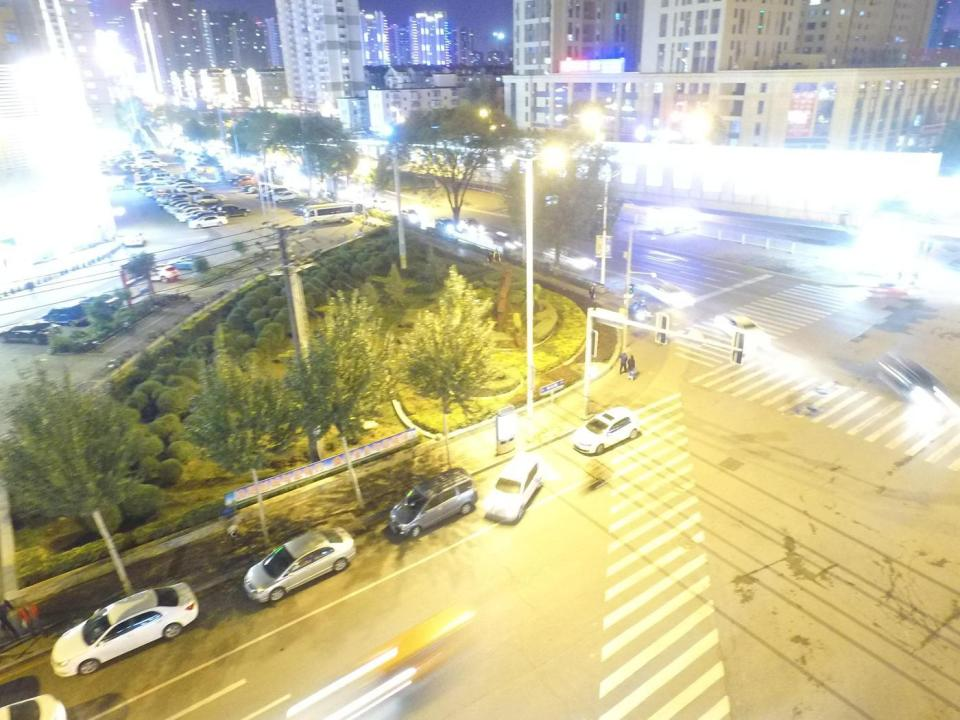bus: (304, 202, 354, 226)
car: (50, 580, 200, 676), (243, 527, 355, 603), (572, 408, 638, 457), (714, 312, 770, 348), (542, 244, 598, 276), (3, 694, 64, 720), (0, 319, 63, 344), (646, 280, 694, 310), (134, 265, 180, 283), (167, 255, 207, 272), (188, 214, 228, 229), (217, 204, 251, 218), (180, 210, 212, 222), (176, 206, 204, 219), (124, 231, 145, 248), (435, 217, 455, 234), (273, 191, 298, 203), (186, 213, 219, 222), (209, 204, 238, 214), (195, 195, 221, 206), (262, 187, 288, 198), (464, 218, 483, 233), (400, 208, 418, 223), (178, 185, 204, 195), (248, 183, 271, 194), (374, 199, 391, 210), (134, 181, 152, 190), (234, 177, 252, 186), (149, 177, 171, 184), (234, 174, 252, 182), (146, 160, 167, 166)
van: (390, 470, 478, 538), (485, 451, 540, 525), (42, 305, 86, 327), (80, 295, 118, 310)
